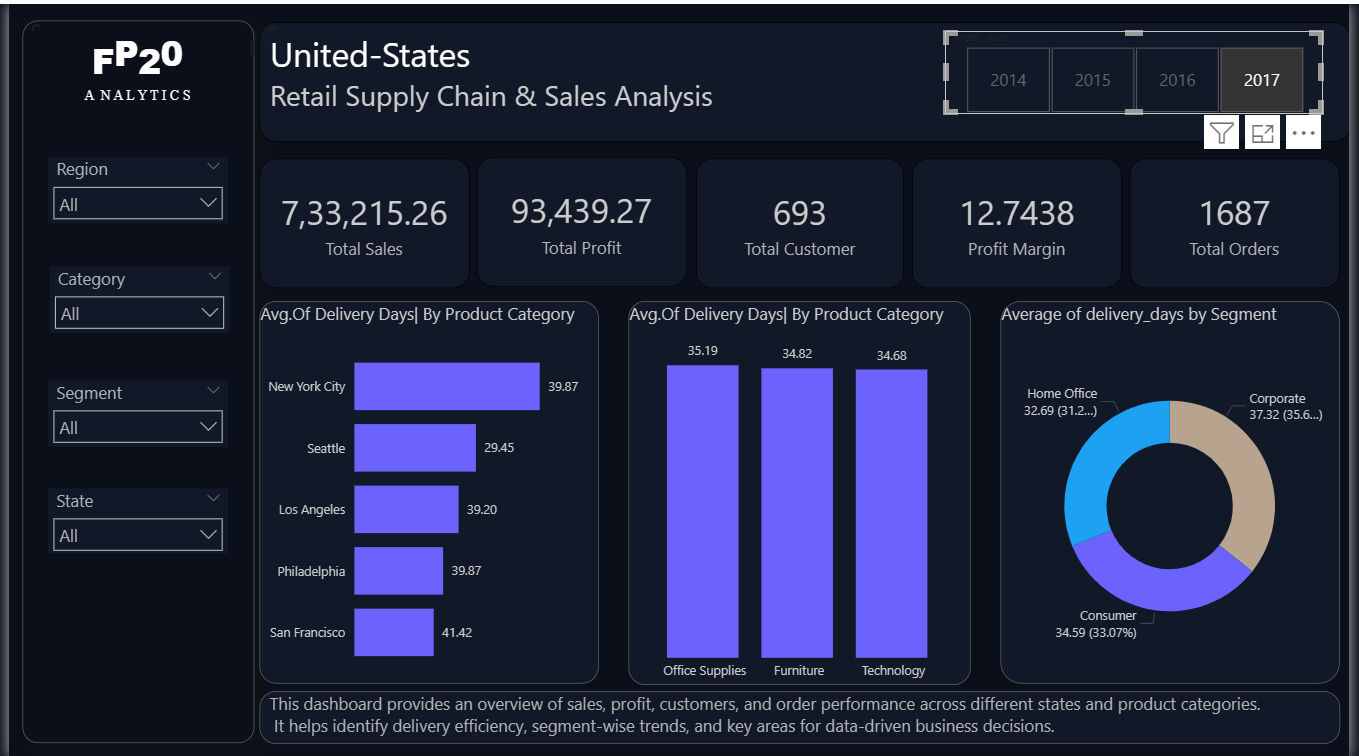

What the dashboard file says about the page in this screenshot:
{"tool":"powerbi","page":{"name":"Page 2","canvas":[1280,720],"ordinal":1},"visuals":[{"type":"slicer","fields":{"Values":["final_retail_store_clean_dataset.Country"]},"box":[12.7,15.9,221.1,690.3],"z":0},{"type":"slicer","fields":{"Values":["final_retail_store_clean_dataset.Country"]},"box":[238.6,17.5,1041.9,114.5],"z":1000},{"type":"slicer","fields":{"Values":["final_retail_store_clean_dataset.order_year"]},"box":[893.9,25.4,361.1,79.5],"z":2000},{"type":"textbox","box":[249.7,25.4,426.3,85.9],"z":3000},{"type":"slicer","fields":{"Values":["final_retail_store_clean_dataset.Region"]},"box":[36.6,146.3,171.8,63.6],"z":4000},{"type":"slicer","fields":{"Values":["final_retail_store_clean_dataset.Category"]},"box":[38.2,251.3,171.8,63.6],"z":5000},{"type":"slicer","fields":{"Values":["final_retail_store_clean_dataset.Segment"]},"box":[36.6,359.5,171.8,63.6],"z":6000},{"type":"slicer","fields":{"Values":["final_retail_store_clean_dataset.State"]},"box":[36.6,462.9,171.8,62],"z":7000},{"type":"card","fields":{"Values":["measures (2).Total Sales"]},"box":[238.6,147.9,200.4,124.1],"z":8000},{"type":"card","fields":{"Values":["measures (2).Total Profit"]},"box":[447,146.3,200.4,124.1],"z":9000},{"type":"card","fields":{"Values":["measures (2).Total Orders"]},"box":[1070.5,147.9,200.4,124.1],"z":10000},{"type":"card","fields":{"Values":["measures (2).Profit Margin"]},"box":[862.1,147.9,200.4,124.1],"z":11000},{"type":"card","fields":{"Values":["measures (2).Total Customer"]},"box":[655.3,147.9,198.8,124.1],"z":12000},{"type":"donutChart","fields":{"Y":["Avg(final_retail_store_clean_dataset.delivery_days)"],"Category":["final_retail_store_clean_dataset.Segment"]},"box":[946.8,283.6,323.7,365.3],"z":13000},{"type":"clusteredColumnChart","title":"Avg.Of Delivery Days| By Product Category","fields":{"Category":["final_retail_store_clean_dataset.Category"],"Y":["measures (2).Avg Of Delivery Days"]},"box":[591.6,283.6,326.6,366.7],"z":14000},{"type":"clusteredBarChart","title":"Avg.Of Delivery Days| By Product Category","fields":{"Category":["final_retail_store_clean_dataset.City"],"Y":["Sum(final_retail_store_clean_dataset.Sales)"]},"box":[239.2,283.6,323.7,365.3],"z":15000},{"type":"textbox","box":[238.6,655.3,1032.3,50.9],"z":16000},{"type":"textbox","box":[16.2,25.3,214.3,89.3],"z":17000}]}

Visuals, with their boxes in screenshot pixels (x1, y1, x2, y2), scaled from the page's 1280x720 canvas onto the 1359x756 screenshot:
slicer - final_retail_store_clean_dataset.Country: box=[13, 17, 248, 742]
slicer - final_retail_store_clean_dataset.Country: box=[253, 18, 1358, 139]
slicer - final_retail_store_clean_dataset.order_year: box=[949, 27, 1332, 110]
textbox: box=[265, 27, 718, 117]
slicer - final_retail_store_clean_dataset.Region: box=[39, 154, 221, 220]
slicer - final_retail_store_clean_dataset.Category: box=[41, 264, 223, 331]
slicer - final_retail_store_clean_dataset.Segment: box=[39, 377, 221, 444]
slicer - final_retail_store_clean_dataset.State: box=[39, 486, 221, 551]
card - measures (2).Total Sales: box=[253, 155, 466, 286]
card - measures (2).Total Profit: box=[475, 154, 687, 284]
card - measures (2).Total Orders: box=[1137, 155, 1349, 286]
card - measures (2).Profit Margin: box=[915, 155, 1128, 286]
card - measures (2).Total Customer: box=[696, 155, 907, 286]
donutChart - Avg(final_retail_store_clean_dataset.delivery_days) x final_retail_store_clean_dataset.Segment: box=[1005, 298, 1349, 681]
"Avg.Of Delivery Days| By Product Category" clusteredColumnChart: box=[628, 298, 975, 683]
"Avg.Of Delivery Days| By Product Category" clusteredBarChart: box=[254, 298, 598, 681]
textbox: box=[253, 688, 1349, 742]
textbox: box=[17, 27, 245, 120]
